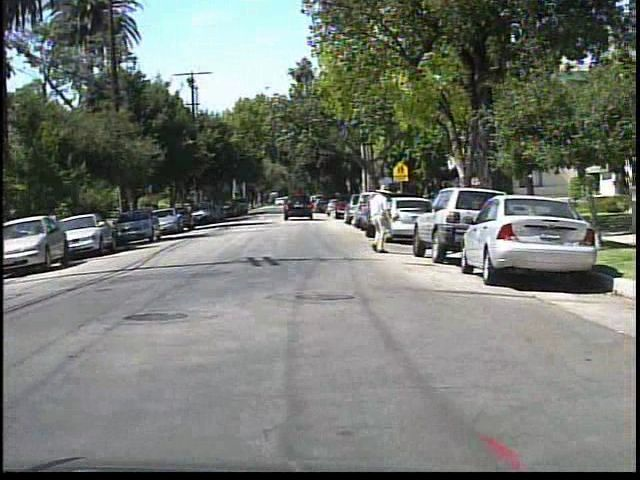person: (356, 184, 400, 257)
